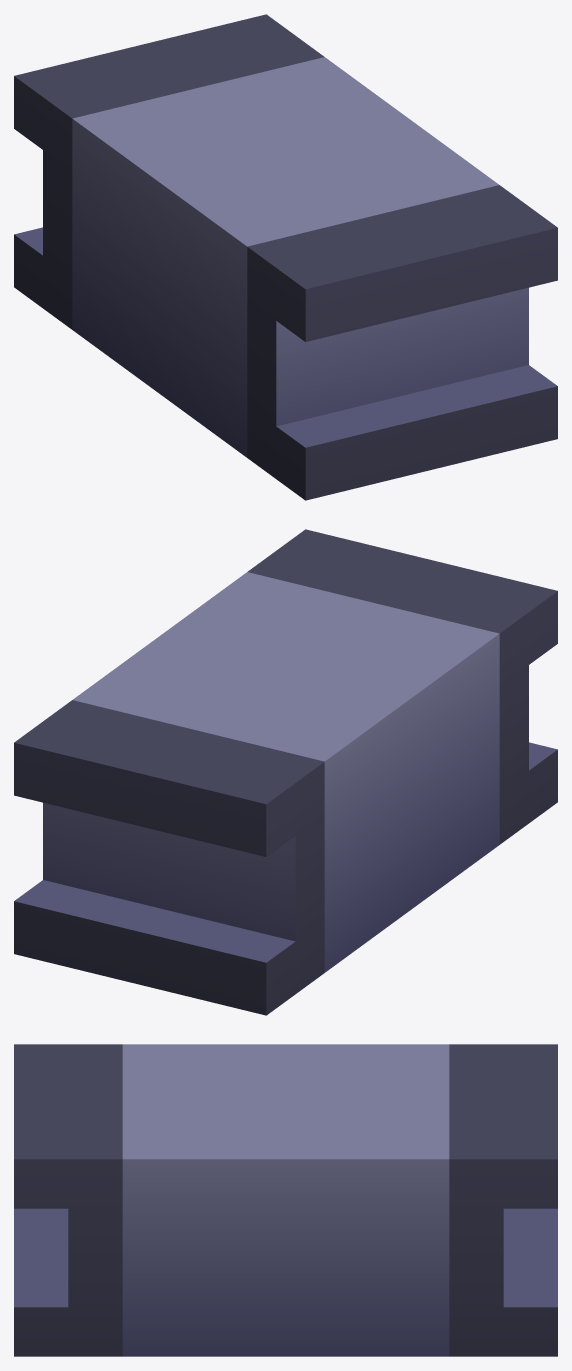
The model's file is kenney-factory-conveyor-stripe-part-middle.glb.
3 views of the same model, one above another, from view 1: azimuth 30°, elevation 25°; view 2: azimuth 150°, elevation 25°; view 3: azimuth 270°, elevation 25° (orthographic). The views are drawn at different scales.
Visible parts, largest first — view 1: conveyor-stripe-part-middle; view 2: conveyor-stripe-part-middle; view 3: conveyor-stripe-part-middle.
Boxes of the visible parts, x1=… form: conveyor-stripe-part-middle: x1=14, y1=14, x2=557, y2=500; conveyor-stripe-part-middle: x1=14, y1=529, x2=557, y2=1015; conveyor-stripe-part-middle: x1=14, y1=1044, x2=557, y2=1356.
Size of the model in its own units: 0.75 by 0.6 by 1.5.
Materials: 1 (1 with a texture image).
